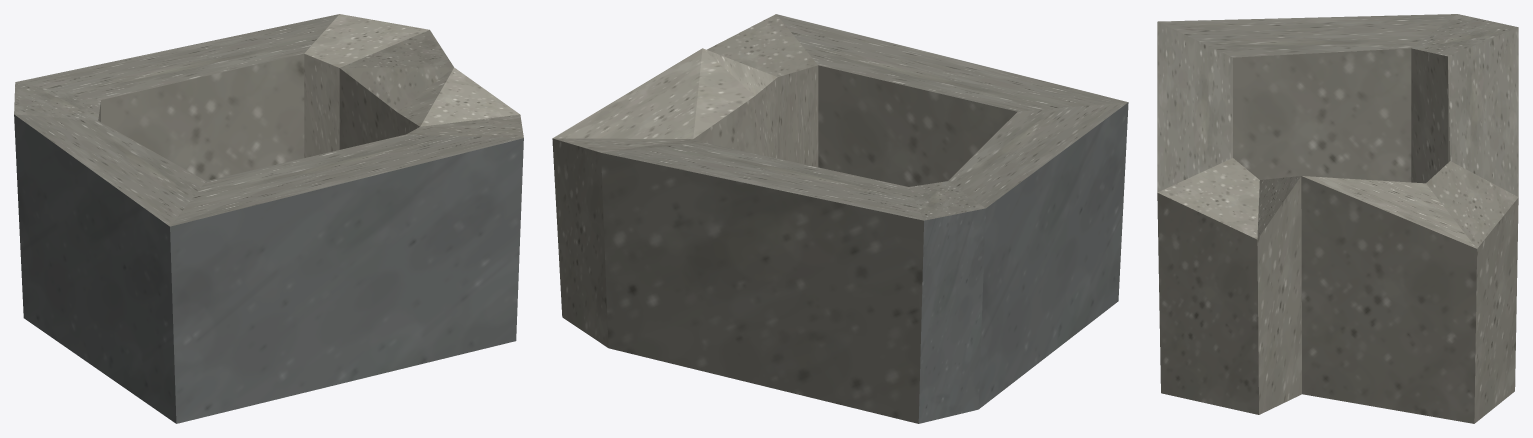
The model's file is debris_cinder_split.glb.
The picture shows the model from 3 angles, left to right: view 1: azimuth 30°, elevation 25°; view 2: azimuth 150°, elevation 25°; view 3: azimuth 270°, elevation 25°; orthographic projection.
Parts seen in each view (by area): view 1: Split Hollow Cinder Block; view 2: Split Hollow Cinder Block; view 3: Split Hollow Cinder Block.
Boxes of the visible parts, x1,y1,x2,y2 form: Split Hollow Cinder Block: (14,14,523,423); Split Hollow Cinder Block: (552,14,1128,423); Split Hollow Cinder Block: (1157,14,1518,423).
Bounding box in the file's own units: 0.202 × 0.1 × 0.148.
1 material, 1 textured.
